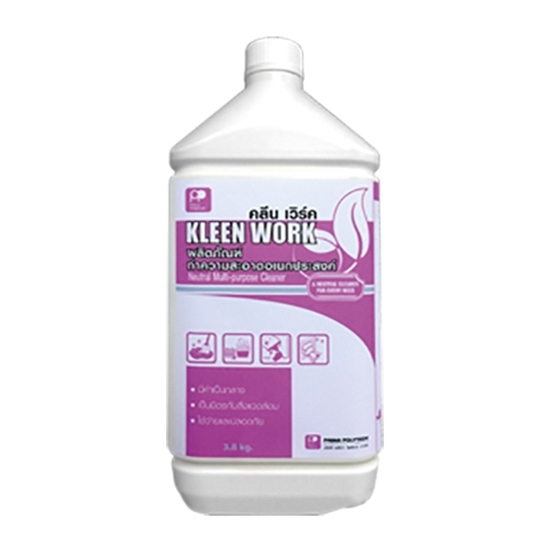Cleaning_solution: (164, 34, 392, 522)
